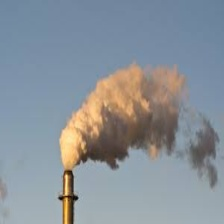smoke: (55, 67, 199, 166)
